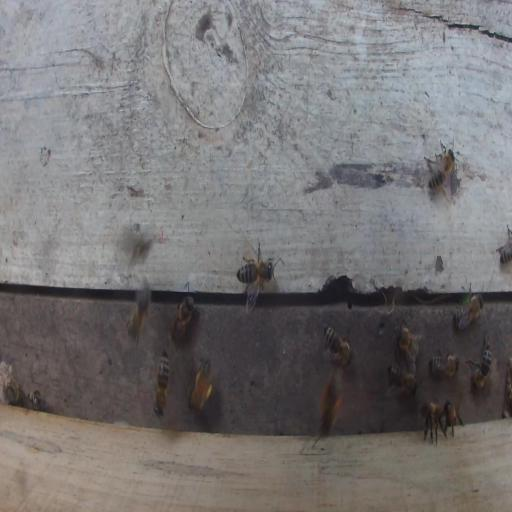bee: (423, 135, 459, 192), (317, 365, 344, 438), (125, 275, 152, 347), (234, 248, 276, 292), (170, 279, 196, 342), (464, 333, 493, 389), (187, 358, 214, 413), (452, 286, 484, 332), (419, 401, 449, 449), (387, 354, 419, 397), (323, 325, 355, 366), (395, 317, 422, 362), (153, 348, 170, 417), (428, 348, 460, 380), (443, 401, 465, 437), (494, 223, 511, 265), (24, 388, 42, 411)
